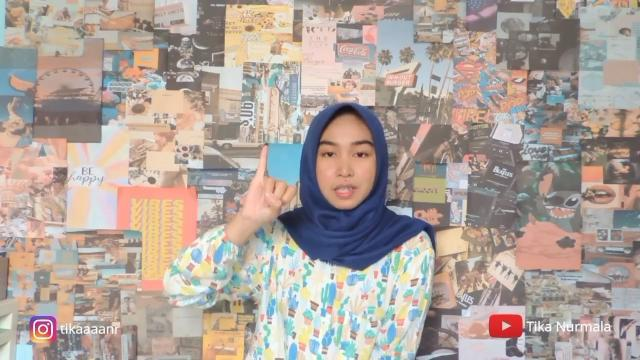I: (242, 143, 296, 227)
